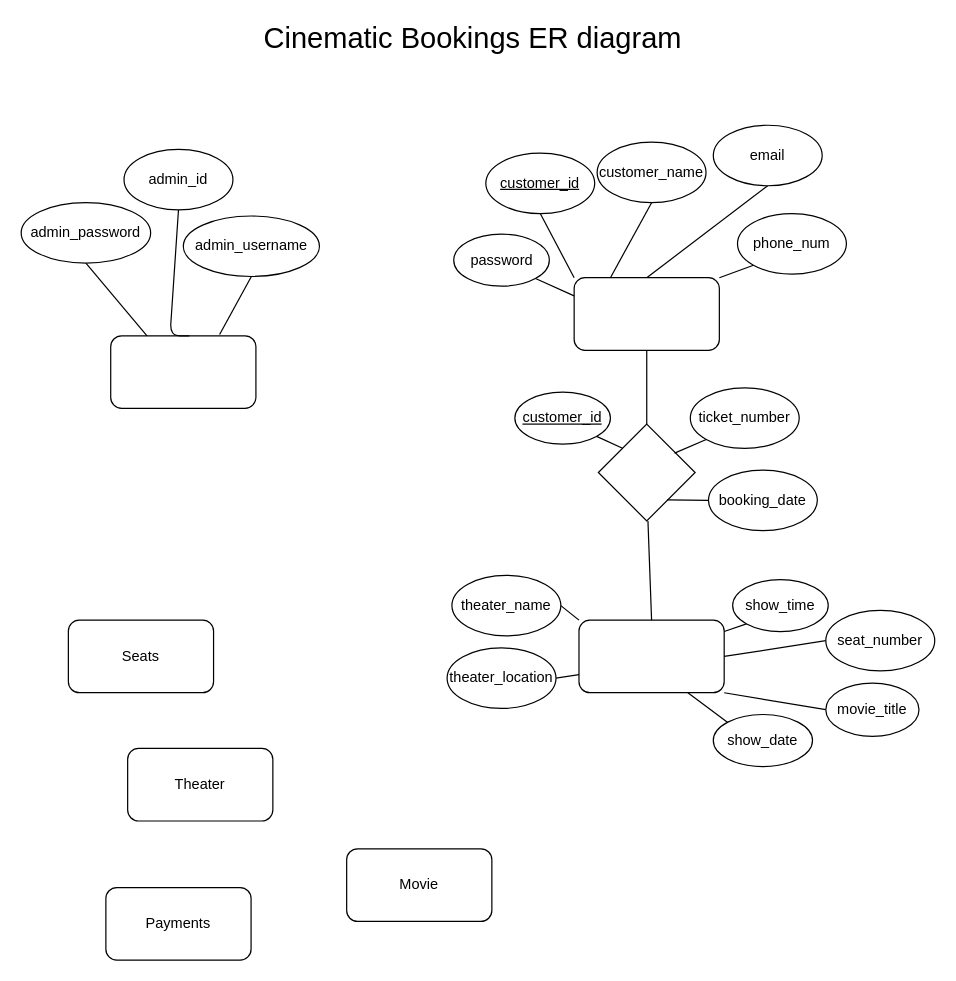
This 956x981 diagram has some shape labels left out. Here are the shapes that lost their labels. From the top down, the centre of each, then its label:
At [646,313]: "Customer".
At [183,371]: "Admin".
At [646,472]: "books".
At [651,656]: "Tickets".
